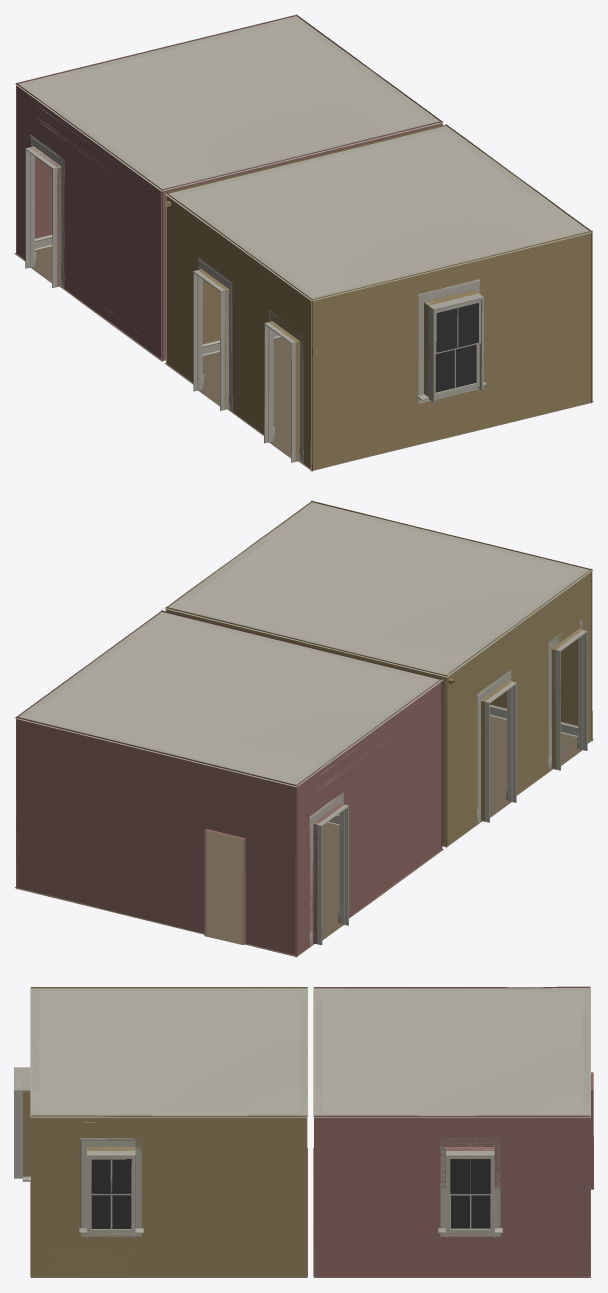
The model's file is house_upper_rooms.glb.
The picture shows the model from 3 angles, top to bottom: view 1: azimuth 30°, elevation 25°; view 2: azimuth 150°, elevation 25°; view 3: azimuth 270°, elevation 25°; orthographic projection. The views are drawn at different scales.
Parts seen in each view (by area): view 1: U2, U3, U2_glass_O_U2_S; view 2: U3, U2; view 3: U2, U3, U2_glass_O_U2_E, U3_glass_O_U3_E.
Boxes of the visible parts, x1,y1,x2,y2 form: U2: [164, 124, 593, 471]; U3: [14, 14, 443, 361]; U2_glass_O_U2_S: [435, 303, 478, 392]; U3: [14, 610, 443, 957]; U2: [164, 500, 593, 847]; U2: [14, 987, 307, 1277]; U3: [313, 986, 593, 1277]; U2_glass_O_U2_E: [91, 1159, 131, 1228]; U3_glass_O_U3_E: [450, 1159, 490, 1228].
Bounding box in the file's own units: 5.45 × 3.25 × 9.53.
